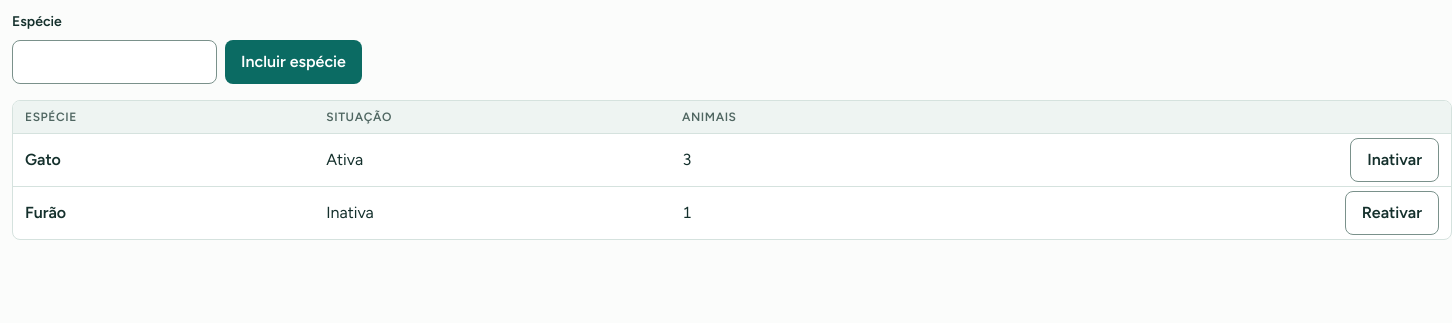
it: vocabulário de espécies (009/US-1) › a recusa da mudança aparece sem recarregar
The image size is (1452, 323).
Click the button with aria-label "Inativar Gato" at (1395, 160), box [1350,138,1439,182]
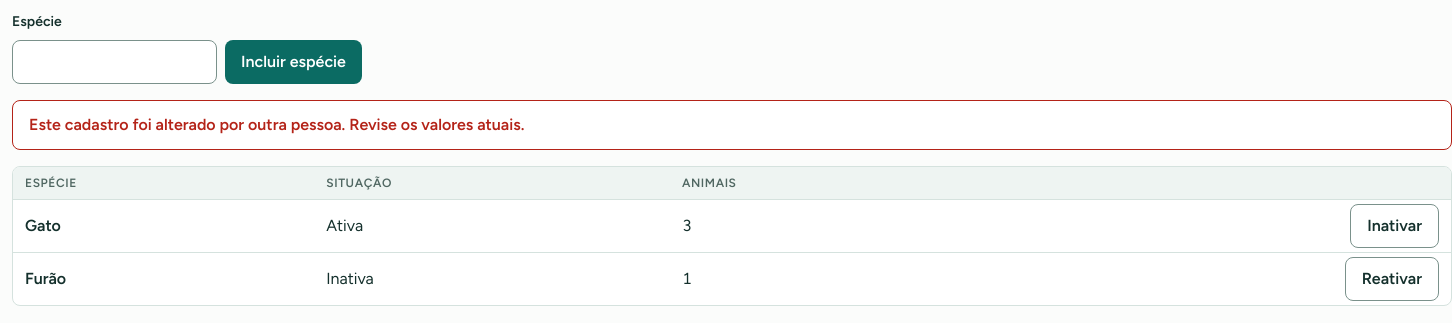
Check: the message shows "alterado por outra pessoa", box [29,115,524,134]
